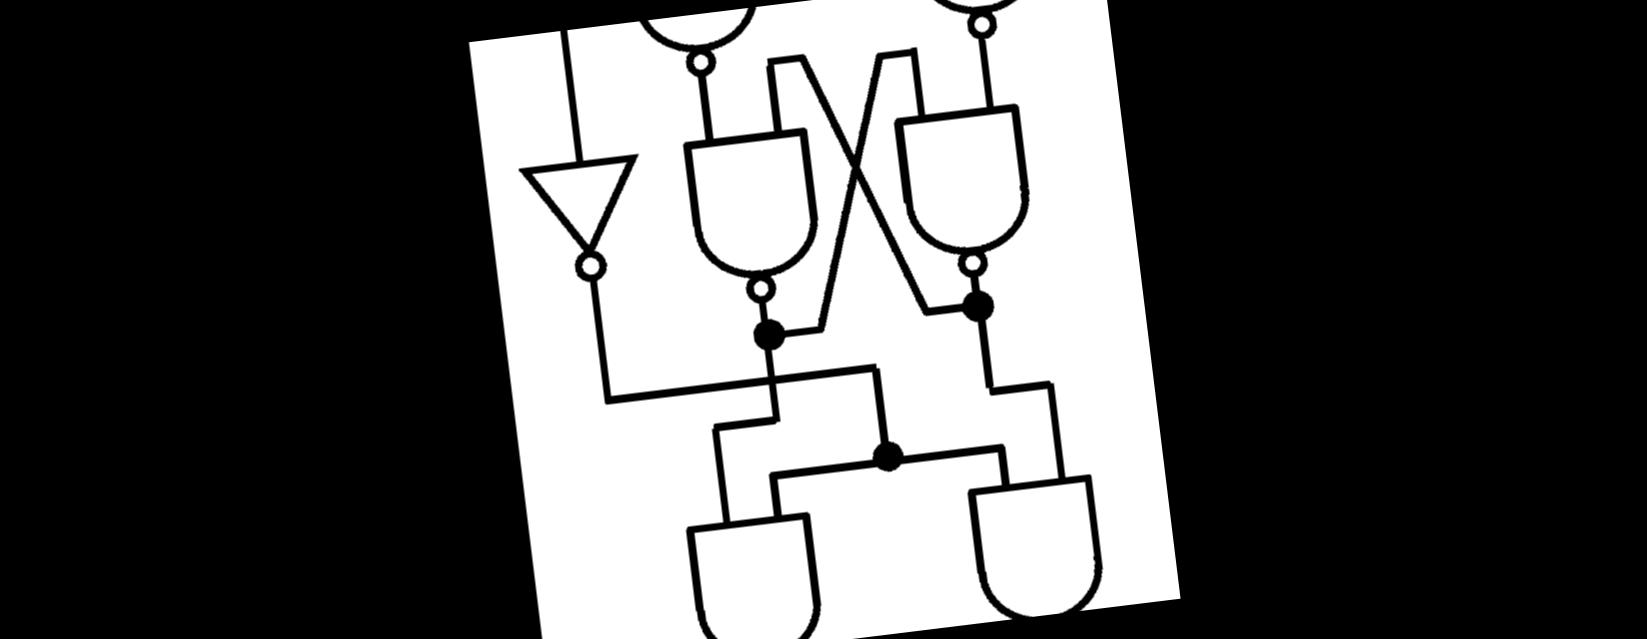nand: (884, 74, 1049, 291), (672, 109, 837, 314), (663, 483, 835, 639), (957, 456, 1118, 622), (624, 4, 773, 84), (908, 0, 1062, 61)
not: (508, 128, 658, 305)
